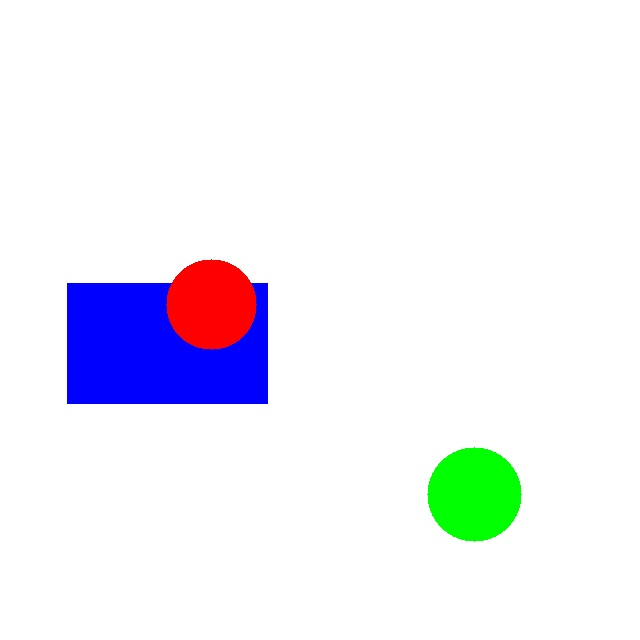cartao: (67, 283, 267, 403)
rosca_externa: (427, 447, 521, 541)
rosca_interna: (166, 259, 256, 349)
